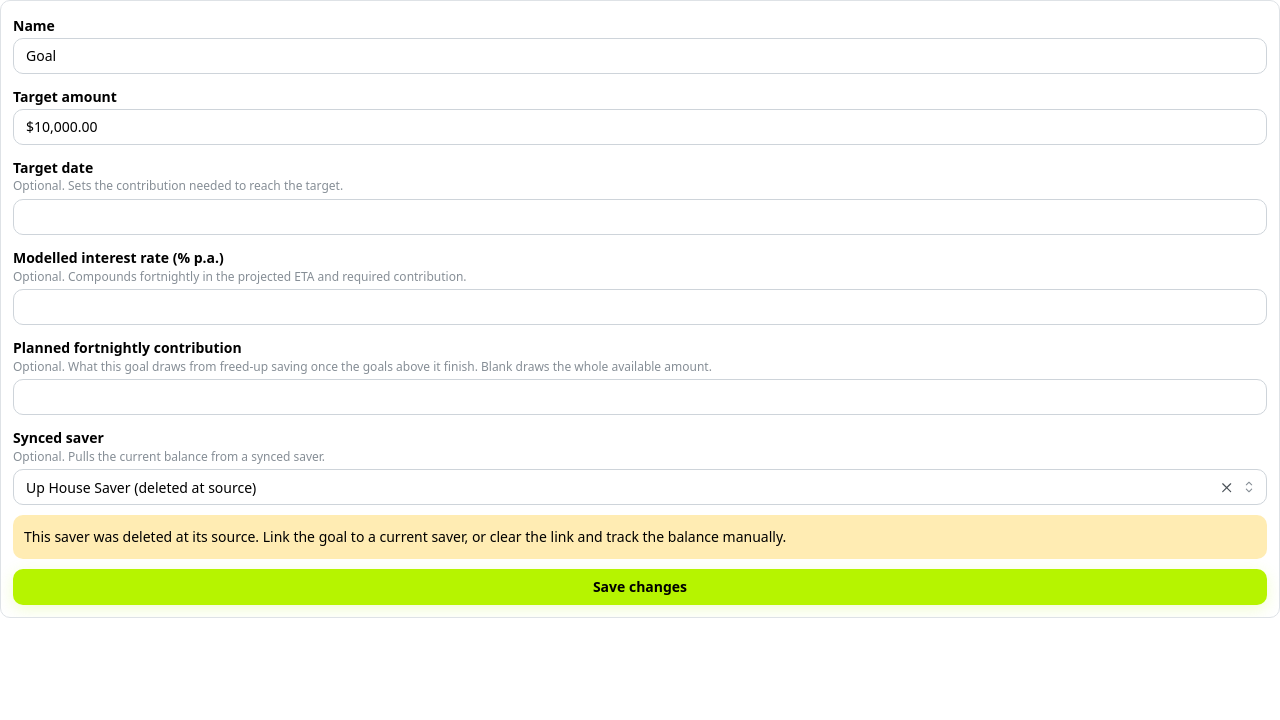
Test case: GoalForm › marks a deleted-at-source saver in the picker and warns when it is the linked one
Check: the text "This saver was deleted at its source" is shown, box [24,527,786,546]
Click the dropdown labelled "Synced saver" at (640, 487), box [13,469,1267,505]
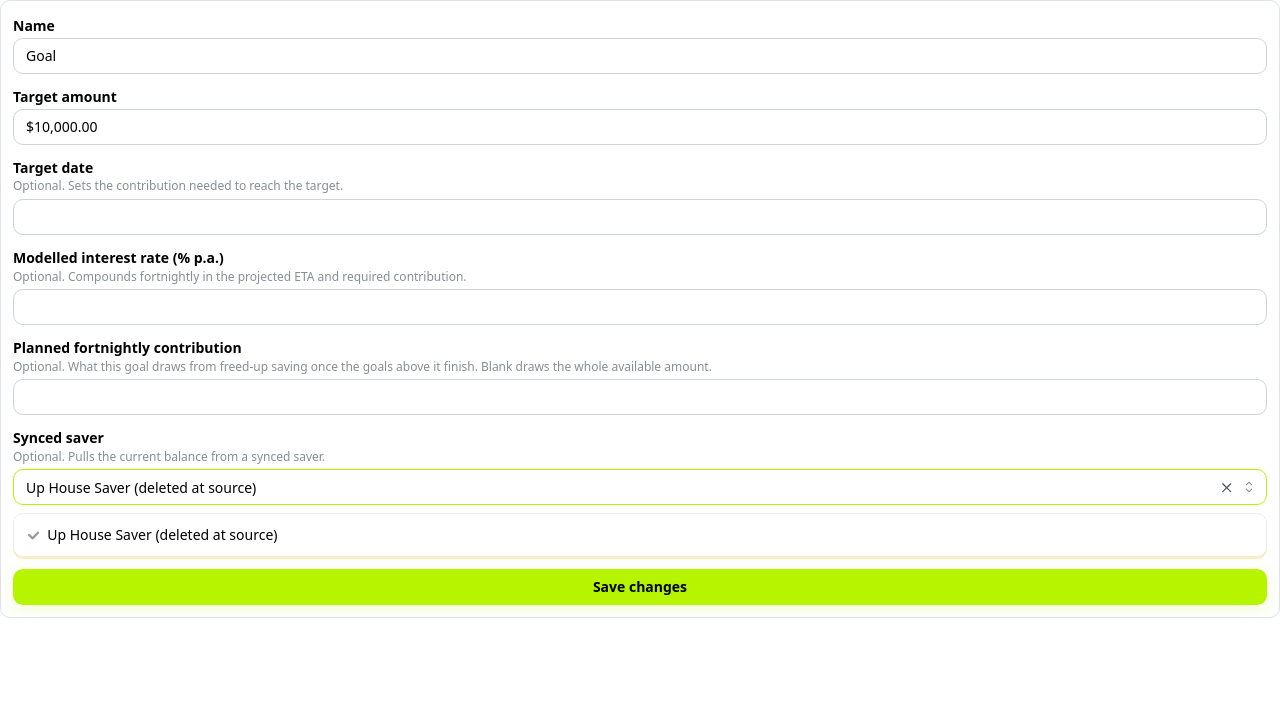
Check: the option "Up House Saver (deleted at source)" is shown, box [28,525,278,544]
